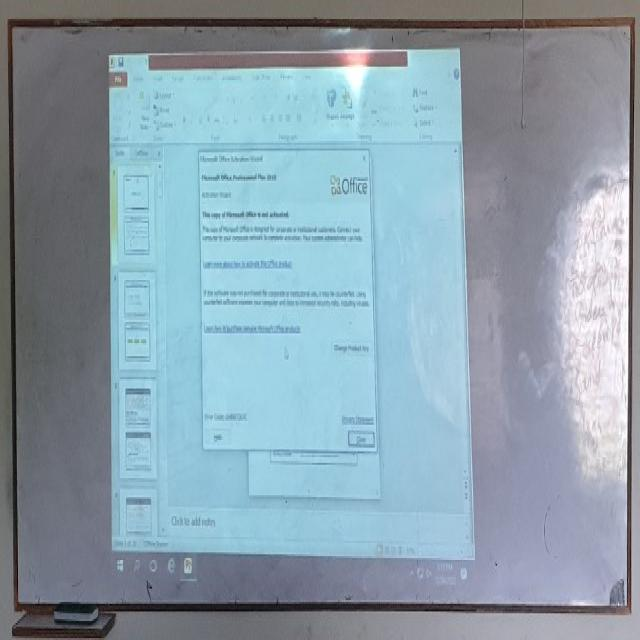Slide: (106, 42, 477, 595)
White-board: (12, 21, 631, 605)
